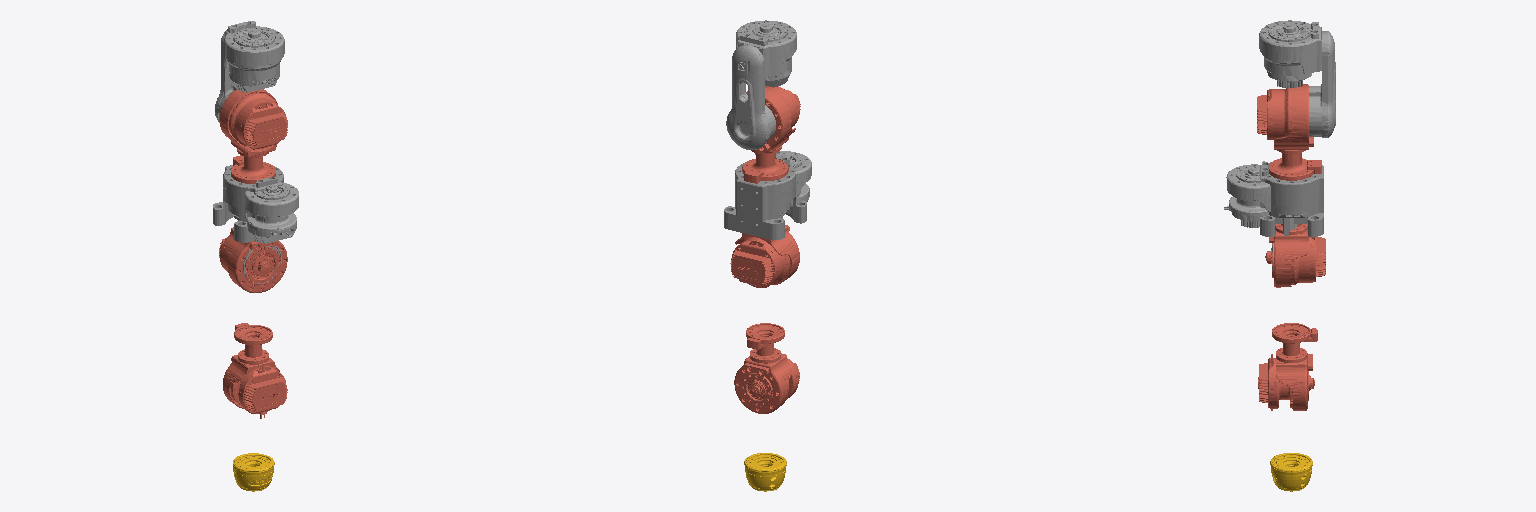
URDF robot description (amber_b1):
<?xml version="1.0" encoding="utf-8"?>
<robot name="amber_b1">
  <link name="world">
  </link>
  <joint name="amber_joint_base" type="fixed">
    <parent link="world"/>
    <child link="base_link"/>
    <origin rpy="0 0 0" xyz="0 0 0"/>
  </joint>
  <link
    name="base_link">
    <inertial>
      <origin
        xyz="6.237E-05 0.00031998 0.048235"
        rpy="0 0 0" />
      <mass
        value="0.26734" />
      <inertia
        ixx="0.00029777"
        ixy="5.8953E-08"
        ixz="-3.3641E-08"
        iyy="0.00024467"
        iyz="2.2995E-07"
        izz="0.00035934" />
    </inertial>
    <visual>
      <origin
        xyz="0 0 0"
        rpy="0 0 0" />
      <geometry>
        <mesh filename="package://amber_b1_description/meshes/base_link.STL"/>
      </geometry>
      <material
        name="">
        <color
          rgba="0.62745 0.62745 0.62745 1" />
      </material>
    </visual>
    <collision>
      <origin
        xyz="0 0 0"
        rpy="0 0 0" />
      <geometry>
                <mesh filename="package://amber_b1_description/meshes/base_link.STL" />
      </geometry>
    </collision>
  </link>
  <link
    name="link1">
    <inertial>
      <origin
        xyz="-7.1956E-05 -0.0006525 0.065648"
        rpy="0 0 0" />
      <mass
        value="0.2539" />
      <inertia
        ixx="0.00013206"
        ixy="-1.112E-07"
        ixz="5.8071E-08"
        iyy="0.00021227"
        iyz="-7.2775E-06"
        izz="0.00013113" />
    </inertial>
    <visual>
      <origin
        xyz="0 0 0"
        rpy="0 0 0" />
      <geometry>
                <mesh filename="package://amber_b1_description/meshes/one_Link.STL" />
      </geometry>
      <material
        name="">
        <color
          rgba="0.83922 0.44706 0.38431 1" />
      </material>
    </visual>
    <collision>
      <origin
        xyz="0 0 0"
        rpy="0 0 0" />
      <geometry>
                <mesh filename="package://amber_b1_description/meshes/one_Link.STL" />
      </geometry>
    </collision>
  </link>
  <joint
    name="joint1"
    type="revolute">
    <origin
      xyz="0 0 0.082"
      rpy="0 0 0" />
    <parent
      link="base_link" />
    <child
      link="link1" />
    <axis
      xyz="0 0 1" />
    <limit
      lower="-2.4435"
      upper="2.4435"
      effort="100"
      velocity="10" />
  </joint>
  <link
    name="link2">
    <inertial>
      <origin
        xyz="5.7141E-05 0.080805 -0.0071326"
        rpy="0 0 0" />
      <mass
        value="0.26004" />
      <inertia
        ixx="0.00027467"
        ixy="1.0052E-07"
        ixz="9.7156E-08"
        iyy="0.00015654"
        iyz="-3.0164E-06"
        izz="0.00029313" />
    </inertial>
    <visual>
      <origin
        xyz="0 0 0"
        rpy="0 0 0" />
      <geometry>
        <mesh
          filename="package://amber_b1_description/meshes/two_Link.STL" />
      </geometry>
      <material
        name="">
        <color
          rgba="0.66667 0.66667 0.66667 1" />
      </material>
    </visual>
    <collision>
      <origin
        xyz="0 0 0"
        rpy="0 0 0" />
      <geometry>
        <mesh
          filename="package://amber_b1_description/meshes/two_Link.STL" />
      </geometry>
    </collision>
  </link>
  <joint
    name="joint2"
    type="revolute">
    <origin
      xyz="0 0.025 0.0865"
      rpy="-1.5708 0 0" />
    <parent
      link="link1" />
    <child
      link="link2" />
    <axis
      xyz="0 0 1" />
    <limit
      lower="-2.3213"
      upper="2.3213"
      effort="100"
      velocity="10" />
  </joint>
  <link
    name="link3">
    <inertial>
      <origin
        xyz="7.536E-05 0.00081876 0.06767"
        rpy="0 0 0" />
      <mass
        value="0.19745" />
      <inertia
        ixx="8.8302E-05"
        ixy="-1.0051E-07"
        ixz="-9.7553E-08"
        iyy="0.00014017"
        iyz="5.8084E-06"
        izz="8.488E-05" />
    </inertial>
    <visual>
      <origin
        xyz="0 0 0"
        rpy="0 0 0" />
      <geometry>
        <mesh
          filename="package://amber_b1_description/meshes/three_Link.STL" />
      </geometry>
      <material
        name="">
        <color
          rgba="0.83922 0.44706 0.38431 1" />
      </material>
    </visual>
    <collision>
      <origin
        xyz="0 0 0"
        rpy="0 0 0" />
      <geometry>
        <mesh
          filename="package://amber_b1_description/meshes/three_Link.STL" />
      </geometry>
    </collision>
  </link>
  <joint
    name="joint3"
    type="revolute">
    <origin
      xyz="0 0.1364 -0.025"
      rpy="1.5708 0 3.1416" />
    <parent
      link="link2" />
    <child
      link="link3" />
    <axis
      xyz="0 0 1" />
    <limit
      lower="-2.2863"
      upper="2.2863"
      effort="100"
      velocity="10" />
  </joint>
  <link
    name="link4">
    <inertial>
      <origin
        xyz="5.5658E-05 0.075812 -0.010096"
        rpy="0 0 0" />
      <mass
        value="0.2255" />
      <inertia
        ixx="0.00018432"
        ixy="9.341E-08"
        ixz="9.3583E-08"
        iyy="0.00014008"
        iyz="5.464E-09"
        izz="0.00019346" />
    </inertial>
    <visual>
      <origin
        xyz="0 0 0"
        rpy="0 0 0" />
      <geometry>
        <mesh
          filename="package://amber_b1_description/meshes/four_Link.STL" />
      </geometry>
      <material
        name="">
        <color
          rgba="0.66667 0.66667 0.66667 1" />
      </material>
    </visual>
    <collision>
      <origin
        xyz="0 0 0"
        rpy="0 0 0" />
      <geometry>
        <mesh
          filename="package://amber_b1_description/meshes/four_Link.STL" />
      </geometry>
    </collision>
  </link>
  <joint
    name="joint4"
    type="revolute">
    <origin
      xyz="0 -0.025 0.0811"
      rpy="1.5708 0 0" />
    <parent
      link="link3" />
    <child
      link="link4" />
    <axis
      xyz="0 0 1" />
    <limit
      lower="-2.2863"
      upper="2.2863"
      effort="100"
      velocity="10" />
  </joint>
  <link
    name="link5">
    <inertial>
      <origin
        xyz="-6.47608224975801E-05 -0.000135644729966451 0.0681146474008698"
        rpy="0 0 0" />
      <mass
        value="0.188342091601826" />
      <inertia
        ixx="8.57208499432024E-05"
        ixy="-9.36285319821068E-08"
        ixz="9.3610025889588E-08"
        iyy="0.000135395618146542"
        iyz="-5.79908404802222E-06"
        izz="8.20376711496822E-05" />
    </inertial>
    <visual>
      <origin
        xyz="0 0 0"
        rpy="0 0 0" />
      <geometry>
        <mesh
          filename="package://amber_b1_description/meshes/five_Link.STL" />
      </geometry>
      <material
        name="">
        <color
          rgba="0.83921568627451 0.447058823529412 0.384313725490196 1" />
      </material>
    </visual>
    <collision>
      <origin
        xyz="0 0 0"
        rpy="0 0 0" />
      <geometry>
        <mesh
          filename="package://amber_b1_description/meshes/five_Link.STL" />
      </geometry>
    </collision>
  </link>
  <joint
    name="joint5"
    type="revolute">
    <origin
      xyz="0 0.121 -0.025"
      rpy="-1.5708 0 0" />
    <parent
      link="link4" />
    <child
      link="link5" />
    <axis
      xyz="0 0 1" />
    <limit
      lower="-2.2863"
      upper="2.2863"
      effort="100"
      velocity="10" />
  </joint>
  <link
    name="link6">
    <inertial>
      <origin
        xyz="-5.3512302833054E-05 -0.0764997090438678 -0.0106346714964407"
        rpy="0 0 0" />
      <mass
        value="0.228014101529845" />
      <inertia
        ixx="0.000184226138693011"
        ixy="9.34105969132088E-08"
        ixz="-9.35833296390346E-08"
        iyy="0.000140231791267273"
        iyz="-9.86104029565552E-09"
        izz="0.000193377959750286" />
    </inertial>
    <visual>
      <origin
        xyz="0 0 0"
        rpy="0 0 0" />
      <geometry>
        <mesh
          filename="package://amber_b1_description/meshes/six_Link.STL" />
      </geometry>
      <material
        name="">
        <color
          rgba="0.666666666666667 0.666666666666667 0.666666666666667 1" />
      </material>
    </visual>
    <collision>
      <origin
        xyz="0 0 0"
        rpy="0 0 0" />
      <geometry>
        <mesh
          filename="package://amber_b1_description/meshes/six_Link.STL" />
      </geometry>
    </collision>
  </link>
  <joint
    name="joint6"
    type="revolute">
    <origin
      xyz="0 0.025 0.0811"
      rpy="-1.5708 0 0" />
    <parent
      link="link5" />
    <child
      link="link6" />
    <axis
      xyz="0 0 1" />
    <limit
      lower="-2.2863"
      upper="2.2863"
      effort="100"
      velocity="10" />
  </joint>
  <link
    name="link7">
    <inertial>
      <origin
        xyz="-1.5306E-10 3.6809E-05 0.020162"
        rpy="0 0 0" />
      <mass
        value="0.030725" />
      <inertia
        ixx="9.1931E-06"
        ixy="1.8624E-13"
        ixz="-7.0127E-14"
        iyy="9.217E-06"
        iyz="1.7076E-08"
        izz="8.0903E-06" />
    </inertial>
    <visual>
      <origin
        xyz="0 0 0"
        rpy="0 0 0" />
      <geometry>
        <mesh
          filename="package://amber_b1_description/meshes/seven_Link.STL" />
      </geometry>
      <material
        name="">
        <color
          rgba="0.94902 0.75686 0.17647 1" />
      </material>
    </visual>
    <collision>
      <origin
        xyz="0 0 0"
        rpy="0 0 0" />
      <geometry>
        <mesh
          filename="package://amber_b1_description/meshes/seven_Link.STL" />
      </geometry>
    </collision>
  </link>
  <joint
    name="joint7"
    type="revolute">
    <origin
      xyz="0 -0.121 -0.025"
      rpy="1.5708 0 0" />
    <parent
      link="link6" />
    <child
      link="link7" />
    <axis
      xyz="0 0 1" />
    <limit
      lower="-314"
      upper="314"
      effort="100"
      velocity="10" />
  </joint>

    <ros2_control name="amber_b1_position" type="system">
      <hardware>
        <plugin>AmberB1Hardware</plugin>
        <param name="param_hw_start_duration_sec">1</param>
        <param name="param_hw_stop_duration_sec">2</param>
      </hardware>

      <joint name="joint1">
        <command_interface name="position"/>
        <command_interface name="velocity"/>
        <state_interface name="position"/>
        <state_interface name="velocity"/>
        <state_interface name="effort"/>
      </joint>
      <joint name="joint2">
        <command_interface name="position"/>
        <command_interface name="velocity"/>
        <state_interface name="position"/>
        <state_interface name="velocity"/>
        <state_interface name="effort"/>
      </joint>
      <joint name="joint3">
        <command_interface name="position"/>
        <command_interface name="velocity"/>
        <state_interface name="position"/>
        <state_interface name="velocity"/>
        <state_interface name="effort"/>
      </joint>
      <joint name="joint4">
        <command_interface name="position"/>
        <command_interface name="velocity"/>
        <state_interface name="position"/>
        <state_interface name="velocity"/>
        <state_interface name="effort"/>
      </joint>
      <joint name="joint5">
        <command_interface name="position"/>
        <command_interface name="velocity"/>
        <state_interface name="position"/>
        <state_interface name="velocity"/>
        <state_interface name="effort"/>
      </joint>
      <joint name="joint6">
        <command_interface name="position"/>
        <command_interface name="velocity"/>
        <state_interface name="position"/>
        <state_interface name="velocity"/>
        <state_interface name="effort"/>
      </joint>
      <joint name="joint7">
        <command_interface name="position"/>
        <command_interface name="velocity"/>
        <state_interface name="position"/>
        <state_interface name="velocity"/>
        <state_interface name="effort"/>
      </joint>
    </ros2_control>
</robot>

--- Render facts (derived) ---
3 views of the same robot in one strip: view 1: azimuth 30°, elevation 25°; view 2: azimuth 150°, elevation 25°; view 3: azimuth 270°, elevation 25° (orthographic).
Robot: amber_b1 — 9 links, 8 joints (7 revolute, 1 fixed); root link world; default pose: every joint at zero.
Visible links, largest first — view 1: link1, link2, link5, link4, link3, base_link, link7; view 2: link2, link5, base_link, link3, link1, link7, link4; view 3: link2, link1, link5, base_link, link3, link4, link7.
Boxes of the visible links, x1,y1,x2,y2 form: link1: [219, 89, 287, 183]; link2: [215, 21, 284, 122]; link5: [223, 323, 287, 418]; link4: [243, 183, 298, 284]; link3: [219, 227, 287, 292]; base_link: [213, 165, 283, 242]; link7: [233, 453, 274, 491]; link2: [726, 20, 796, 149]; link5: [734, 323, 799, 413]; base_link: [724, 155, 806, 239]; link3: [730, 225, 799, 287]; link1: [742, 86, 800, 183]; link7: [744, 453, 786, 491]; link4: [776, 151, 811, 218]; link2: [1259, 20, 1335, 137]; link1: [1257, 84, 1321, 180]; link5: [1258, 323, 1317, 410]; base_link: [1260, 161, 1323, 236]; link3: [1265, 223, 1325, 287]; link4: [1224, 164, 1296, 273]; link7: [1270, 453, 1312, 491].
Bounding box of the posed robot: 0.095 × 0.1565 × 0.7172 m (x, y, z).
Meshes: 8 distinct files referenced, 7 mesh visuals loaded (7 binary STL); not drawn: 1 (reference not matched to a file when rendering).
